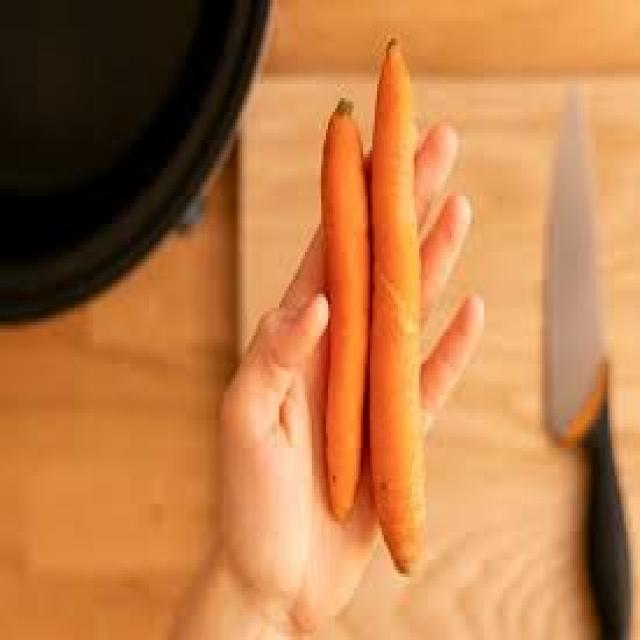organic waste: (366, 32, 428, 570), (314, 91, 368, 514)
